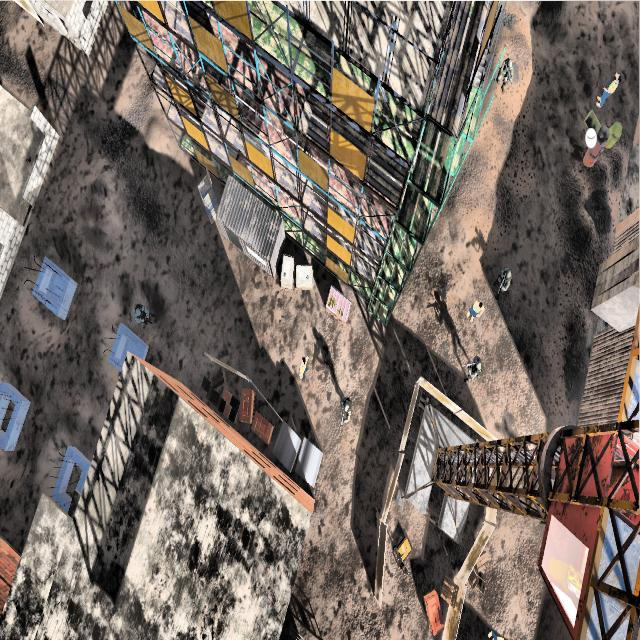bad: (132, 293, 158, 340), (461, 343, 488, 388), (336, 385, 360, 432), (496, 264, 515, 303), (498, 56, 514, 95)
good: (594, 55, 624, 114), (461, 288, 488, 333), (292, 337, 314, 390)
